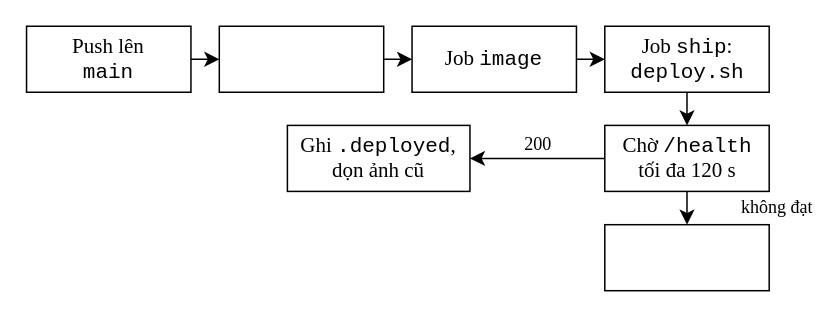
Image size: 839x318. Some labels were removed from this diagram. The shapes that lost their labels are listed below. From the top down, each one's box as (x1, y1, x2, y2) in pixels, then its label:
(218, 25, 384, 92): Job test
(603, 223, 769, 291): Lùi về sha ở .deployed
